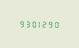nine: (17, 19, 22, 27), (47, 20, 52, 28)
one: (35, 19, 40, 28)
three: (23, 19, 28, 27)
two: (41, 20, 46, 28)
zero: (29, 19, 34, 27), (53, 20, 58, 28)
